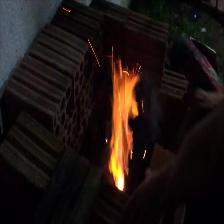fire: (103, 61, 144, 194)
